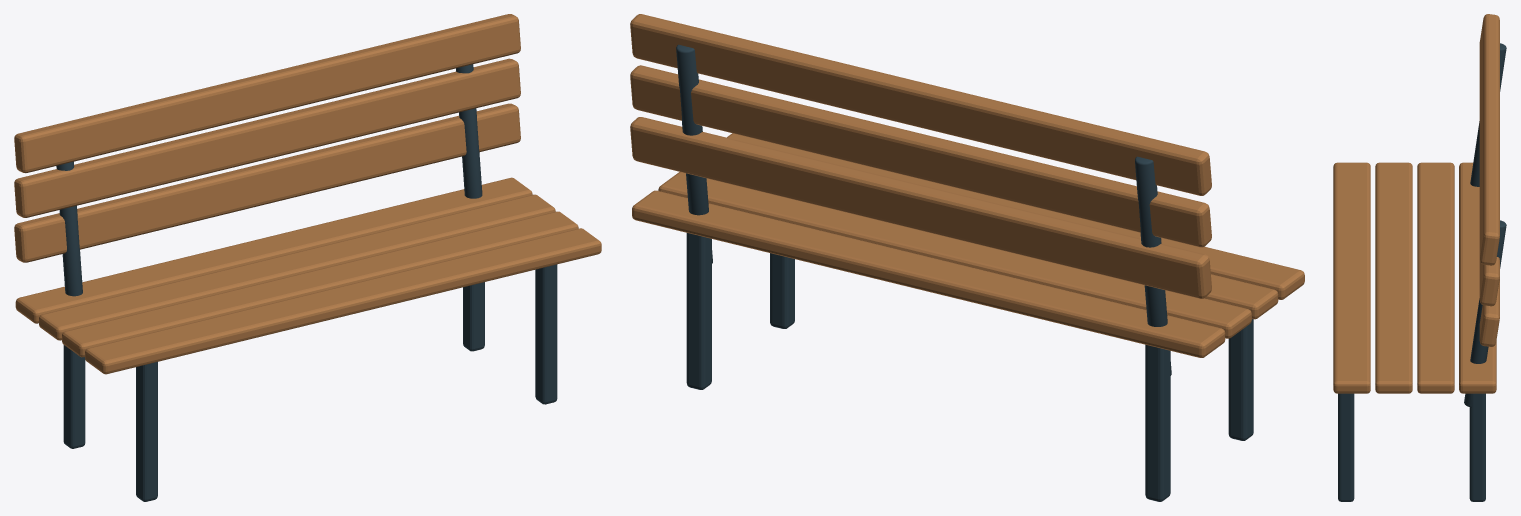
The model's file is CourtyardBench.fbx.
3 views of the same model, side by side, from view 1: azimuth 30°, elevation 25°; view 2: azimuth 150°, elevation 25°; view 3: azimuth 270°, elevation 25° (orthographic). The views are drawn at different scales.
Parts seen in each view (by area): view 1: Back slat.002, Back slat.001, Back slat, Seat slat, Seat slat.001, Seat slat.002, Seat slat.003, Metal foot.002, Metal foot, Metal foot.001, Back brace, Back brace.001 (+1 smaller); view 2: Back slat, Back slat.002, Back slat.001, Seat slat.003, Seat slat.002, Seat slat, Metal foot.003, Metal foot.001, Metal foot, Back brace.001, Back brace, Seat slat.001 (+1 smaller); view 3: Seat slat, Seat slat.001, Seat slat.002, Back slat.002, Seat slat.003, Metal foot.002, Metal foot.003, Back brace.001, Back slat.001, Back slat, Back brace.
Boxes of the visible parts, x1,y1,x2,y2 form: Back slat.002: (14,14,520,173); Back slat.001: (14,58,520,217); Back slat: (14,103,520,262); Seat slat: (85,228,601,374); Seat slat.001: (62,211,578,357); Seat slat.002: (39,194,555,340); Seat slat.003: (15,177,532,323); Metal foot.002: (535,264,557,404); Metal foot: (136,362,157,501); Metal foot.001: (63,345,85,448); Back brace: (56,161,82,296); Back brace.001: (456,64,482,198); Back slat: (630,117,1211,298); Back slat.002: (630,14,1211,195); Back slat.001: (630,65,1211,247); Seat slat.003: (632,190,1225,357); Seat slat.002: (658,172,1251,338); Seat slat: (727,133,1304,299); Metal foot.003: (686,233,711,389); Metal foot.001: (1145,344,1170,501); Metal foot: (1228,319,1253,440); Back brace.001: (676,44,712,264); Back brace: (1135,156,1171,376); Seat slat.001: (1204,274,1278,319); Seat slat: (1333,162,1370,393); Seat slat.001: (1375,162,1412,393); Seat slat.002: (1417,162,1454,393); Back slat.002: (1479,14,1499,265); Seat slat.003: (1459,162,1496,393); Metal foot.002: (1338,393,1354,501); Metal foot.003: (1469,393,1485,501); Back brace.001: (1464,220,1506,407); Back slat.001: (1479,257,1499,306); Back slat: (1479,278,1499,346); Back brace: (1470,43,1506,186).
Size of the model in its own units: 1.75 by 1.06 by 0.5785.
